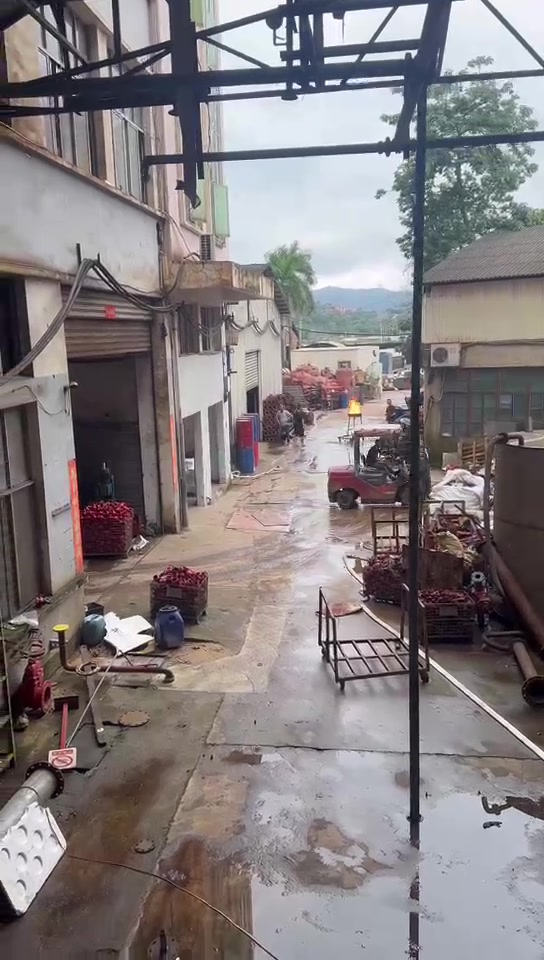fire: (347, 396, 361, 413)
